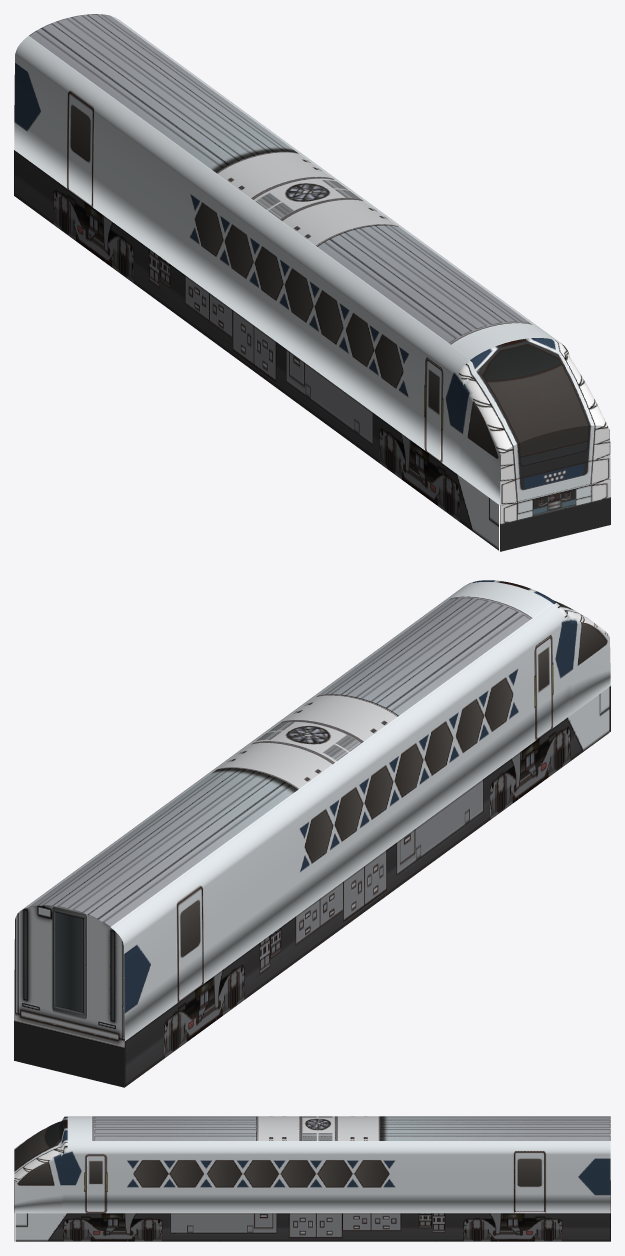
Rendered from car1.glb.
3 views of the same model, one above another, from view 1: azimuth 30°, elevation 25°; view 2: azimuth 150°, elevation 25°; view 3: azimuth 270°, elevation 25° (orthographic). The views are drawn at different scales.
Parts seen in each view (by area): view 1: tobu-n100-car1; view 2: tobu-n100-car1; view 3: tobu-n100-car1.
Part boxes in pixels (x1,y1,x2,y2): tobu-n100-car1: [14, 14, 610, 551]; tobu-n100-car1: [14, 580, 610, 1087]; tobu-n100-car1: [14, 1116, 610, 1241].
Bounding box in the file's own units: 2.84 × 4.05 × 21.61.
Materials: 9 (8 with a texture image).
